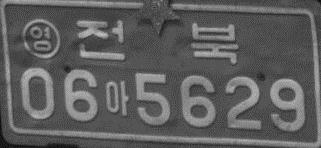0: (19, 66, 55, 120)
2: (224, 75, 262, 130)
5: (134, 72, 170, 126)
6: (179, 75, 216, 128), (63, 67, 97, 122)
9: (268, 78, 306, 132)
아: (104, 80, 129, 116)
영: (21, 18, 60, 59)
전북_D: (76, 19, 238, 64)
